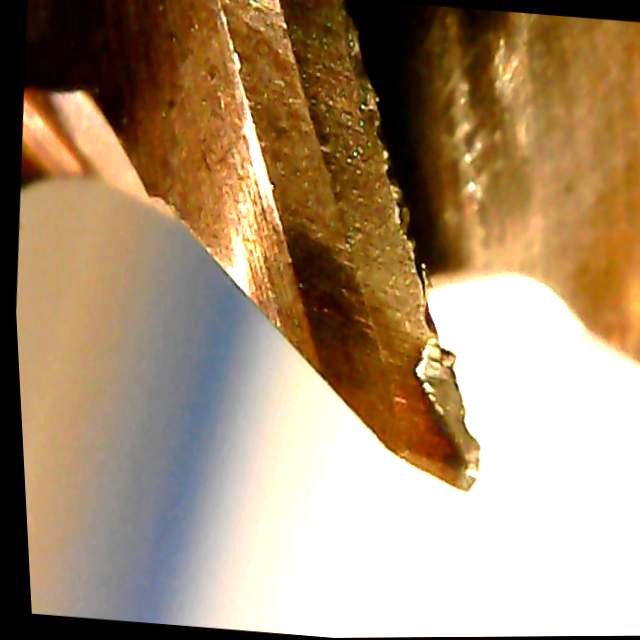Tool-wear-class-2: (306, 274, 507, 515)
